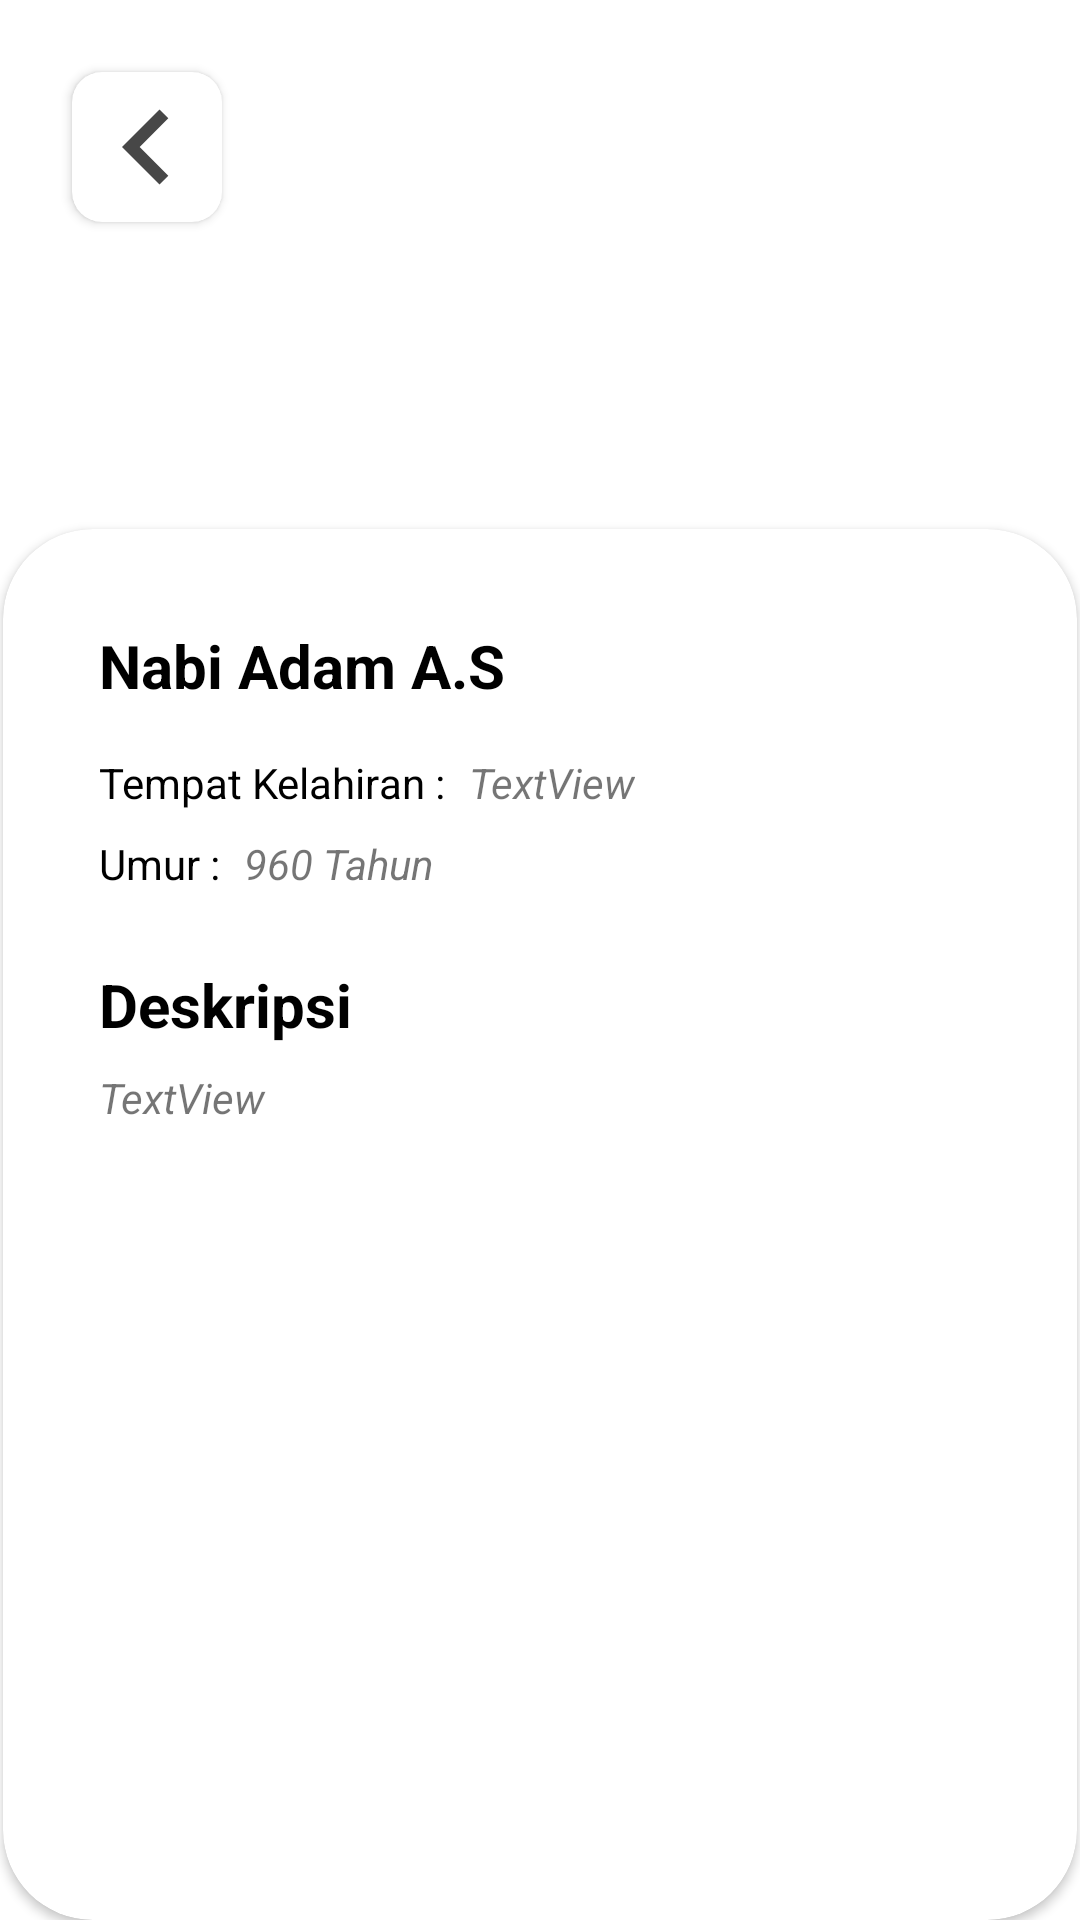

Screen size 1080x1920. Icon name, then its box in pixels as [x1, y1, x2, y2]:
keyboard arrow left: [72, 72, 209, 222]
